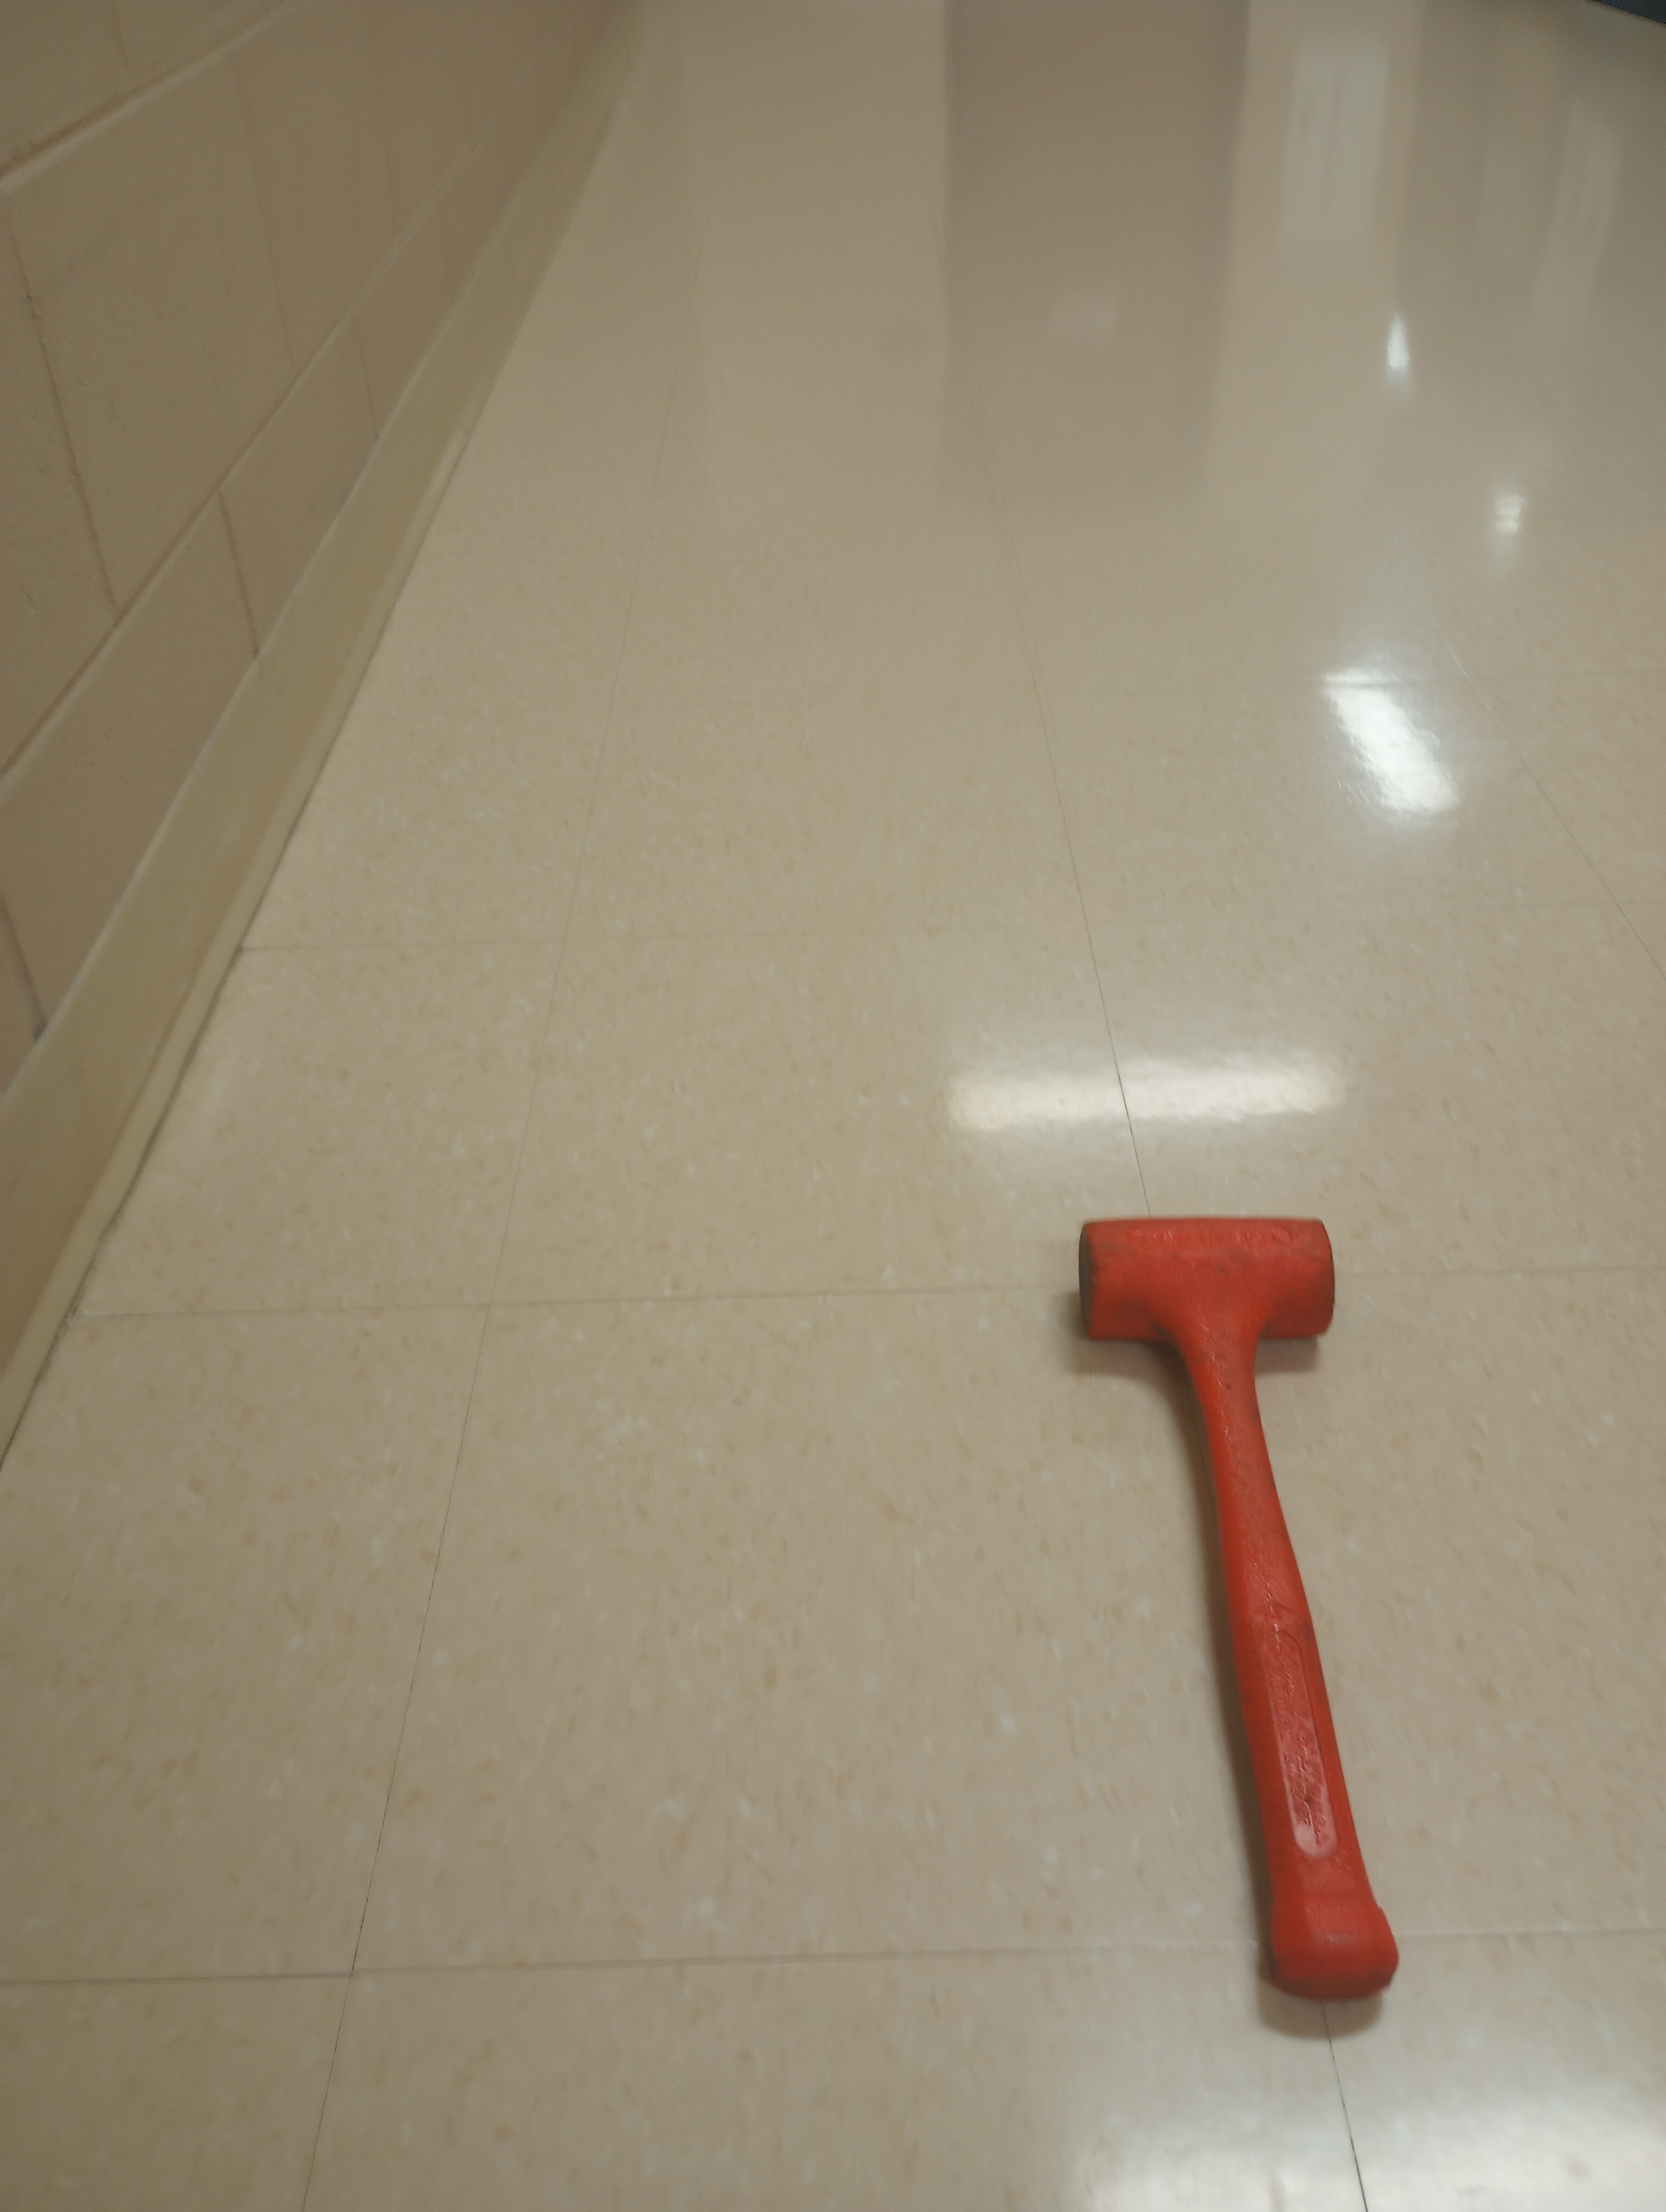bottle: (1073, 1200, 1402, 2013)
